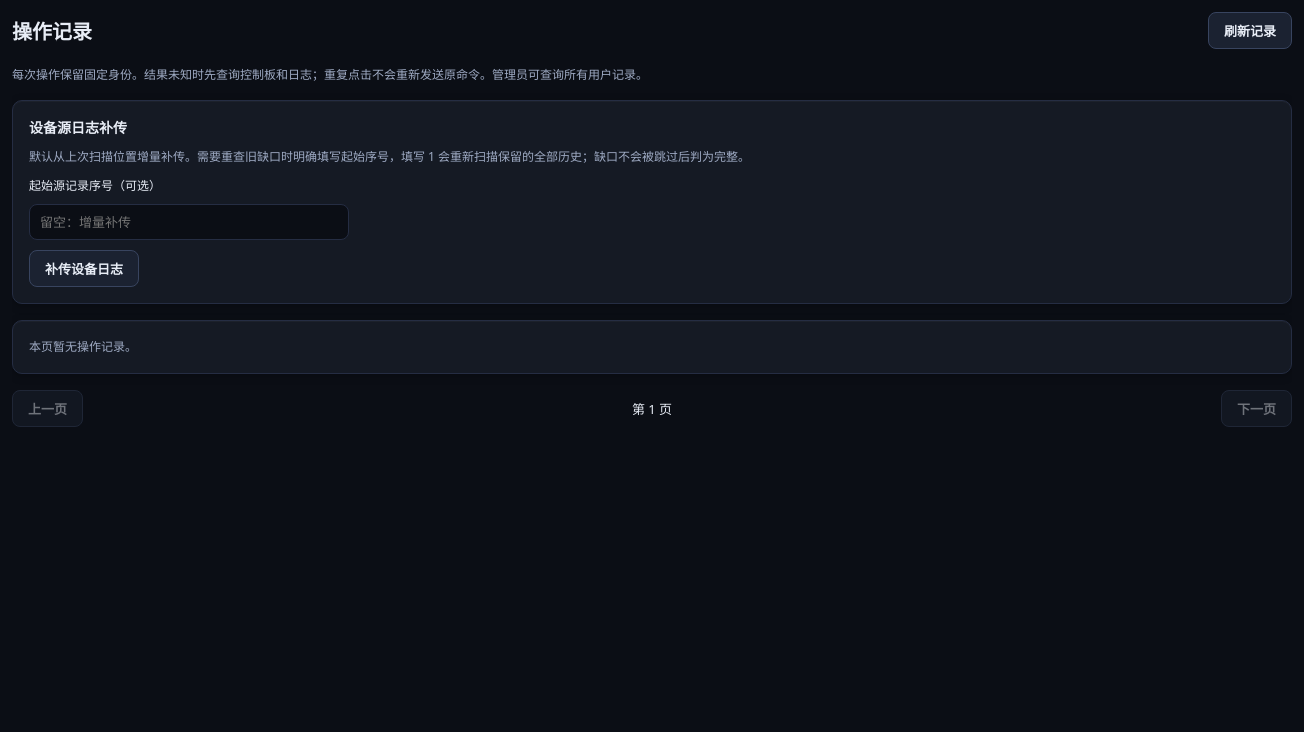
Test case: only starts an explicit scan, defaults to incremental and preserves an operator uint64 sequence as text
The width and height of the screenshot is (1304, 732).
Click the button "补传设备日志" at {"x": 84, "y": 269}, box 29,250 -> 139,287
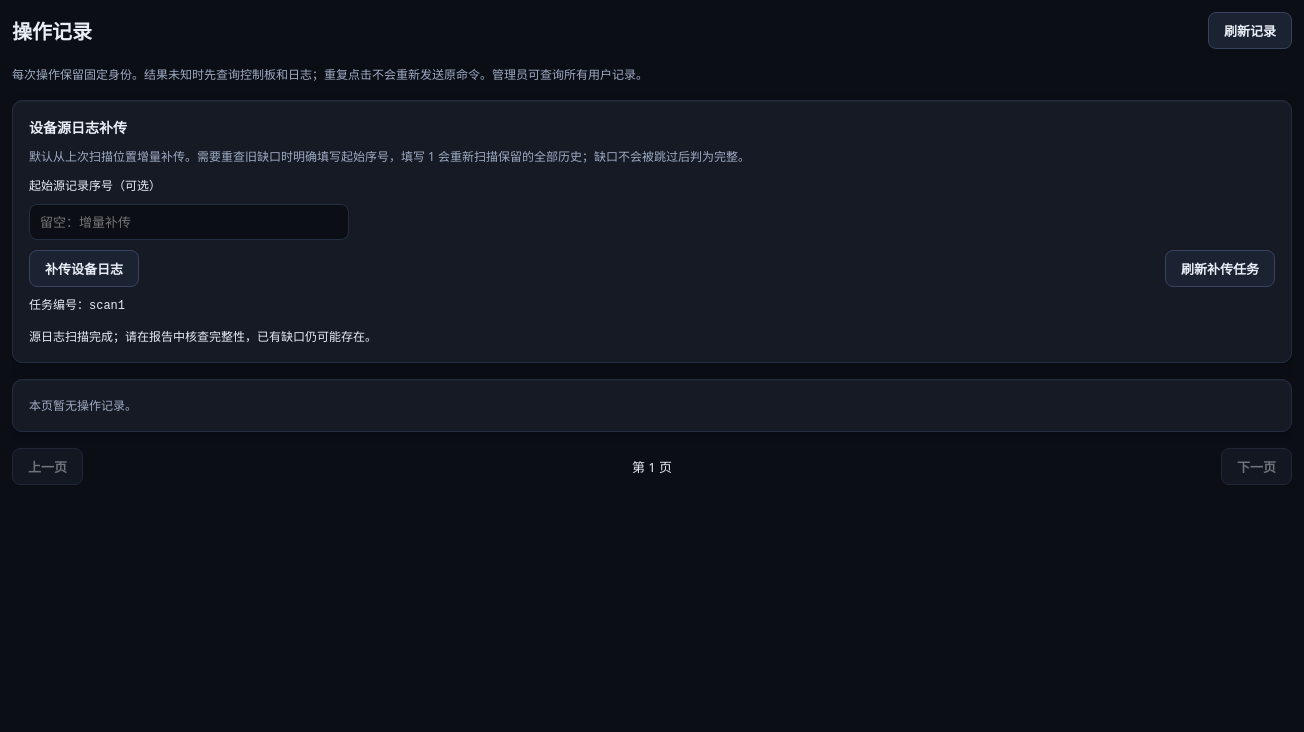
Expected: the text "请在报告中核查完整性" is shown, 29,328 -> 377,345
Type "18446744073709551616" into the field named "起始源记录序号" at {"x": 189, "y": 222}, box 29,204 -> 349,240
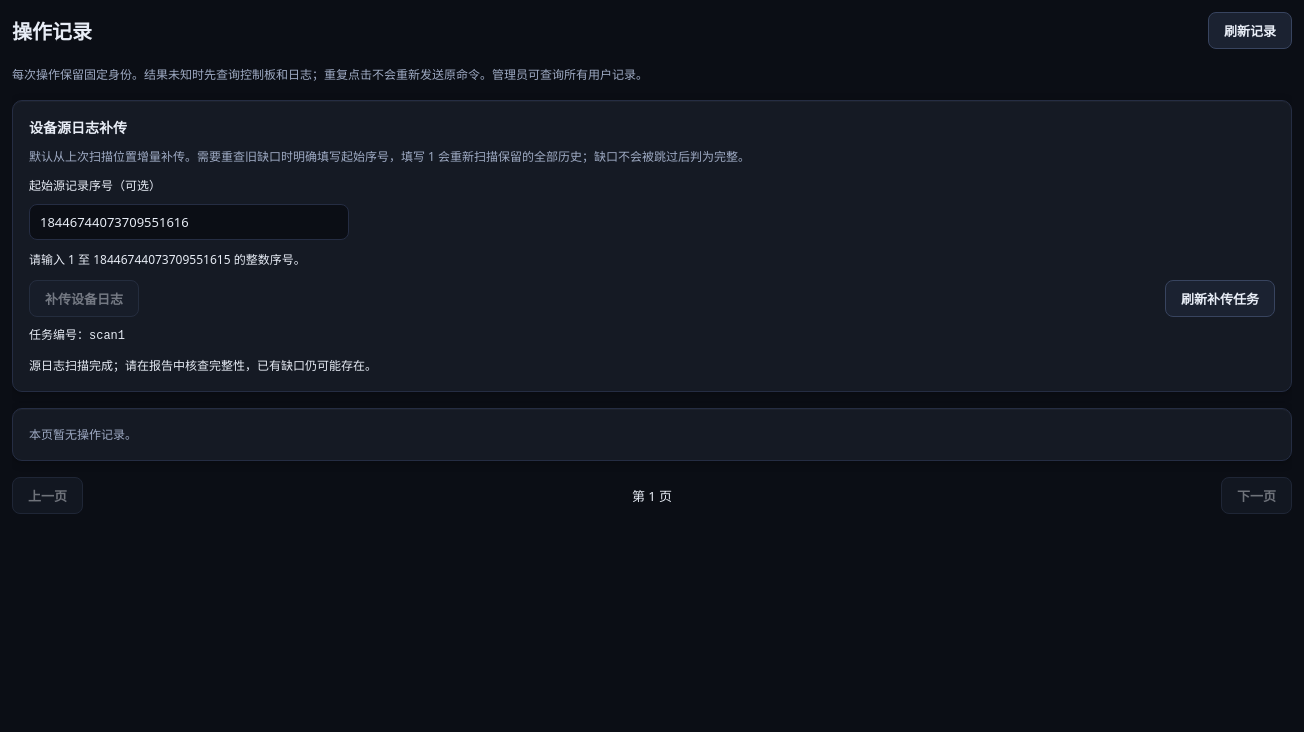
Expected: the button "补传设备日志" is disabled, 29,280 -> 139,317
Replace the text in the field named "起始源记录序号" with "18446744073709551615" at {"x": 189, "y": 222}, box 29,204 -> 349,240
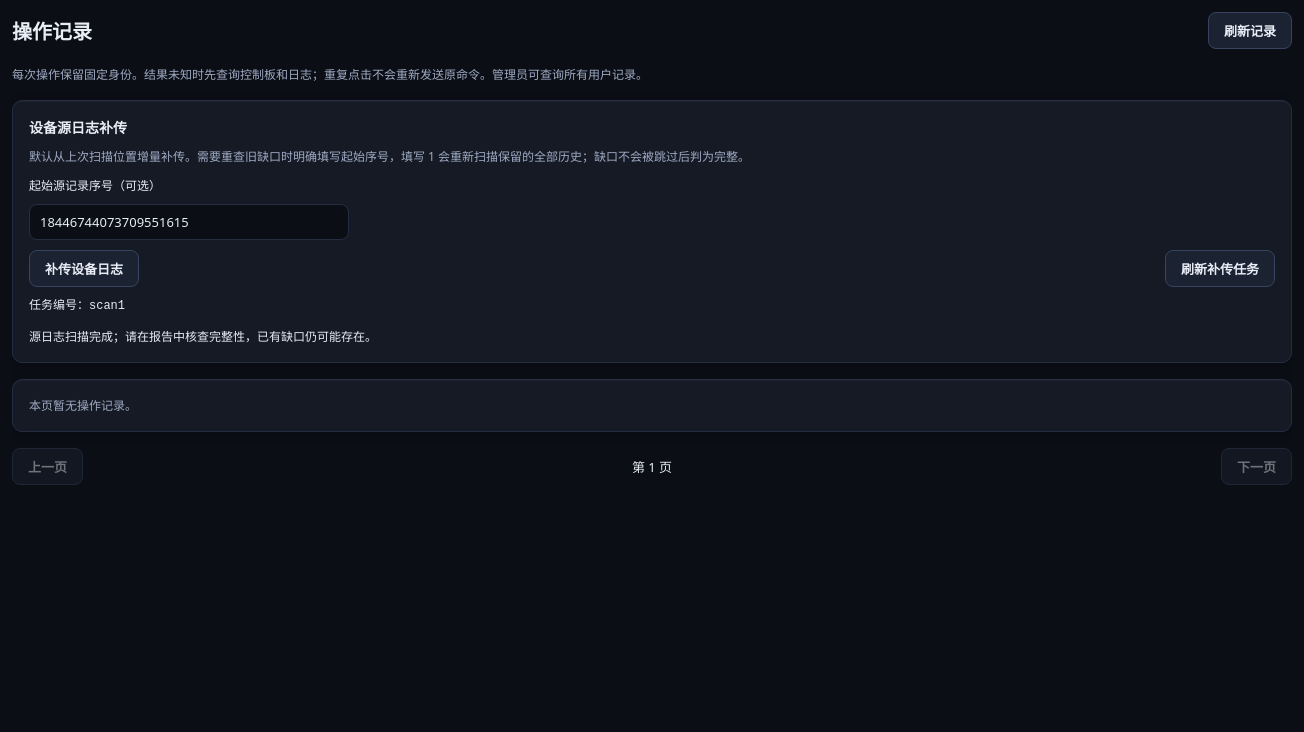
Click the button "补传设备日志" at {"x": 84, "y": 269}, box 29,250 -> 139,287
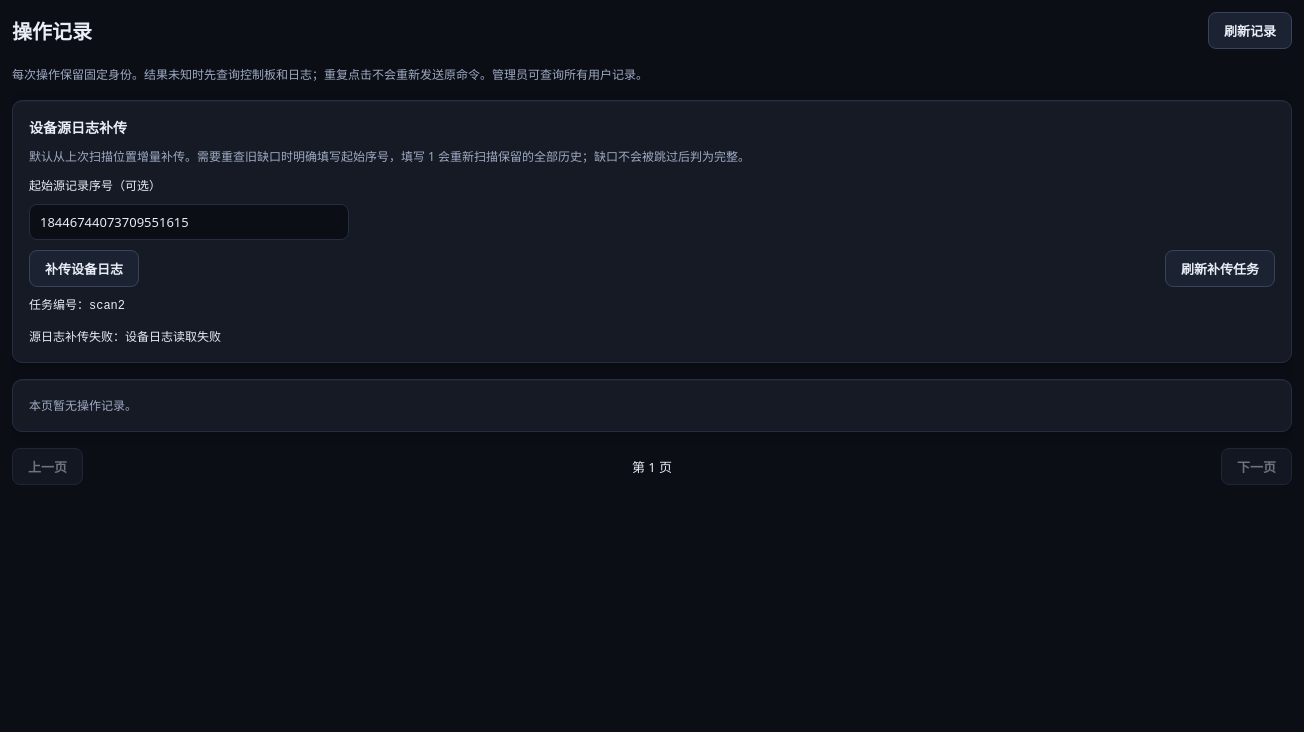
Expected: the text "设备日志读取失败" is shown, 113,328 -> 221,345
